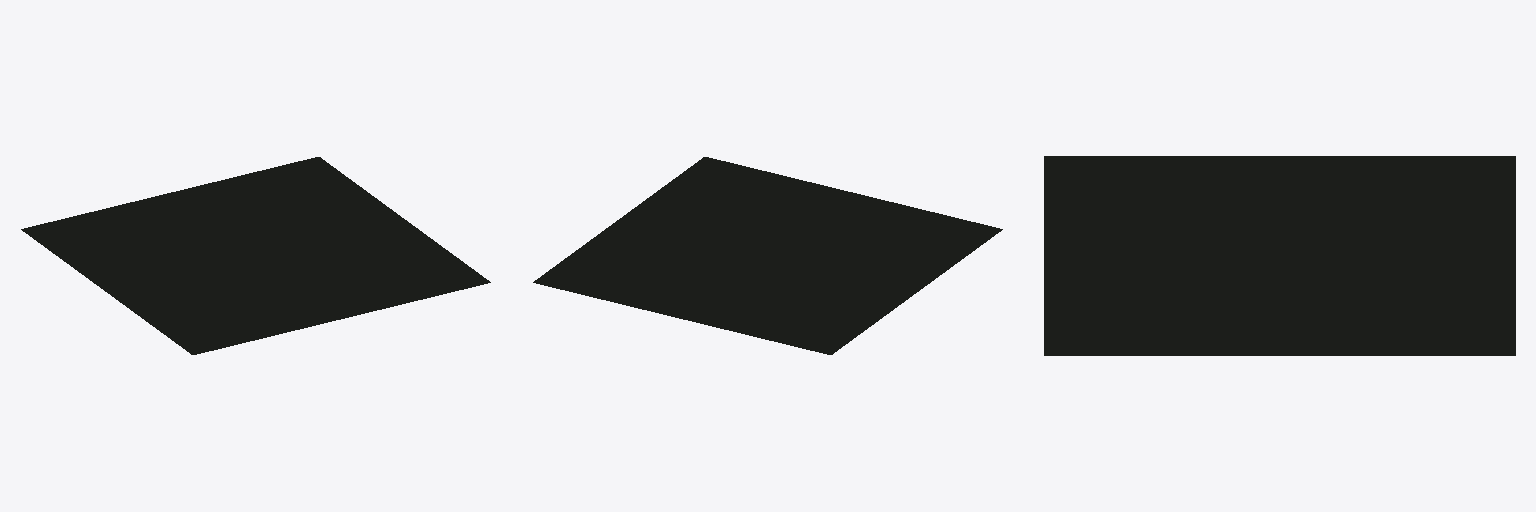
robot.urdf — mountain:
<?xml version="1.0"?>
  <robot name="mountain">

<link name="base_link">
     <visual>
       <!-- <origin xyz="-4 -3 0"/> -->
        <geometry>
        <mesh filename="package://sherpa_spatial_relations/meshes/plane.dae"/>
        </geometry>
     </visual> 
   
     <collision>
       <geometry>
	 <mesh filename="package://sherpa_spatial_relations/meshes/plane.dae"/>
       </geometry>
     </collision>
 <inertial>
       <mass value="1" />
	<inertia ixx="1.0" ixy="0.0" ixz="0.0" iyy="1.0" iyz="0.0" izz="1.0" />
       </inertial>
</link>

   <gazebo>
     <static>true</static>
   </gazebo>

</robot>

--- What the picture shows (computed from the rendered views, not written in the file) ---
The picture shows the robot from 3 angles, left to right: view 1: azimuth 30°, elevation 25°; view 2: azimuth 150°, elevation 25°; view 3: azimuth 270°, elevation 25°; orthographic projection.
Model mountain with 1 links and 0 joints (none), rooted at base_link, posed all joints at 0.
Links seen in each view (by area): view 1: base_link; view 2: base_link; view 3: base_link.
Link boxes in pixels (bbox=[...]): base_link: bbox=[21, 157, 490, 354]; base_link: bbox=[533, 157, 1002, 354]; base_link: bbox=[1044, 156, 1515, 355].
Size in the robot's own frame: 1787 by 1787 by 204 metres.
1 mesh visuals loaded from 1 distinct referenced files (1 Collada DAE).
